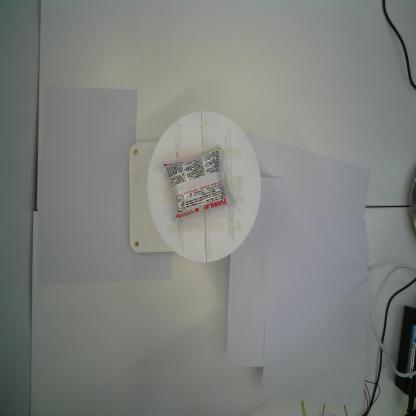Dessert: (162, 145, 230, 222)
